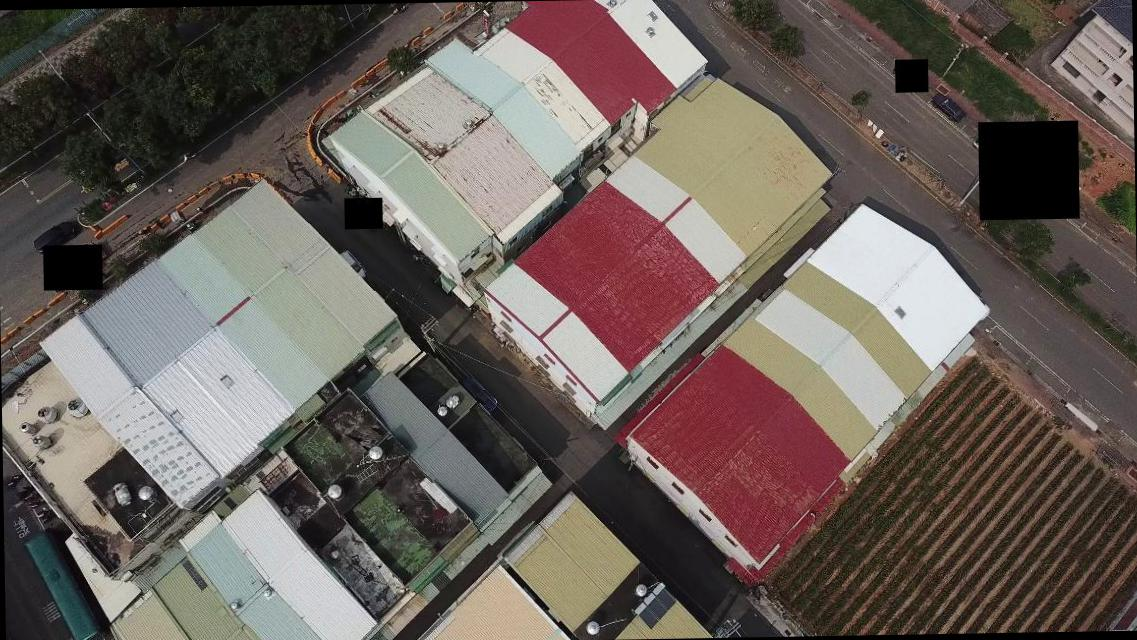vehicle: (462, 371, 498, 413), (31, 222, 74, 255), (928, 90, 966, 122), (338, 249, 364, 279)
